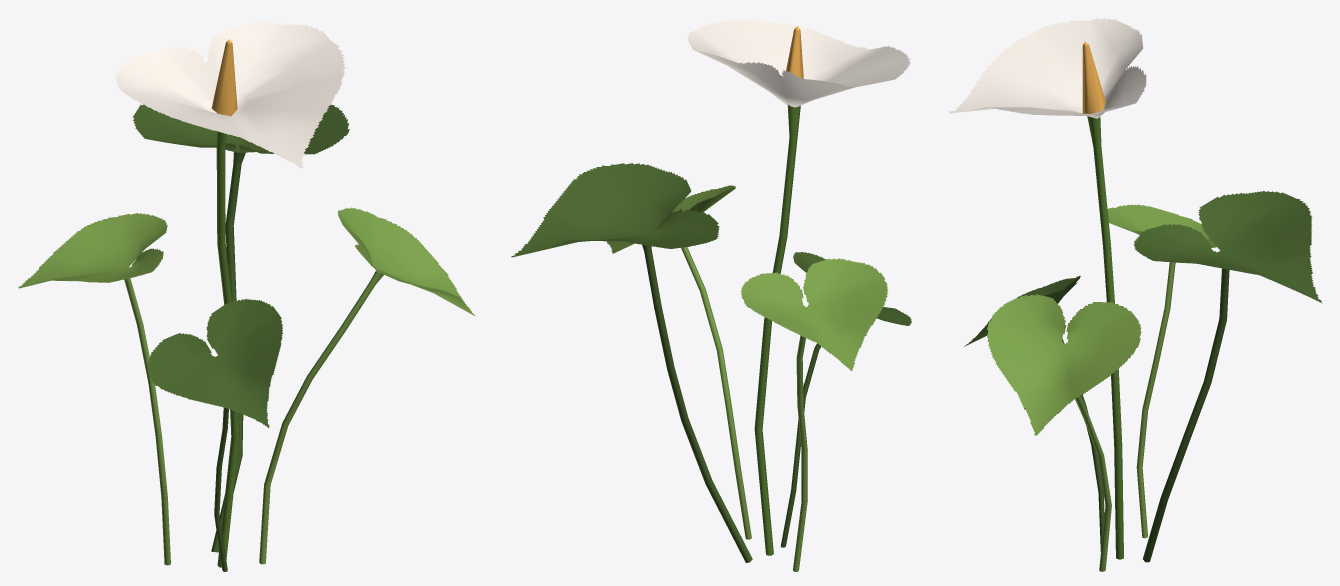
The model's file is Swamp_Calla_1.gltf.
3 renders of one model, left to right at view 1: azimuth 30°, elevation 25°; view 2: azimuth 150°, elevation 25°; view 3: azimuth 270°, elevation 25°, orthographic. The views are drawn at different scales.
Visible parts, largest first — view 1: Swamp_Calla_1; view 2: Swamp_Calla_1; view 3: Swamp_Calla_1.
Part boxes in pixels (x1=…): Swamp_Calla_1: x1=18, y1=20, x2=475, y2=571; Swamp_Calla_1: x1=511, y1=19, x2=911, y2=571; Swamp_Calla_1: x1=949, y1=18, x2=1322, y2=571.
Size of the model in its own units: 40.99 by 59.06 by 39.88.
1 material, 1 textured.
